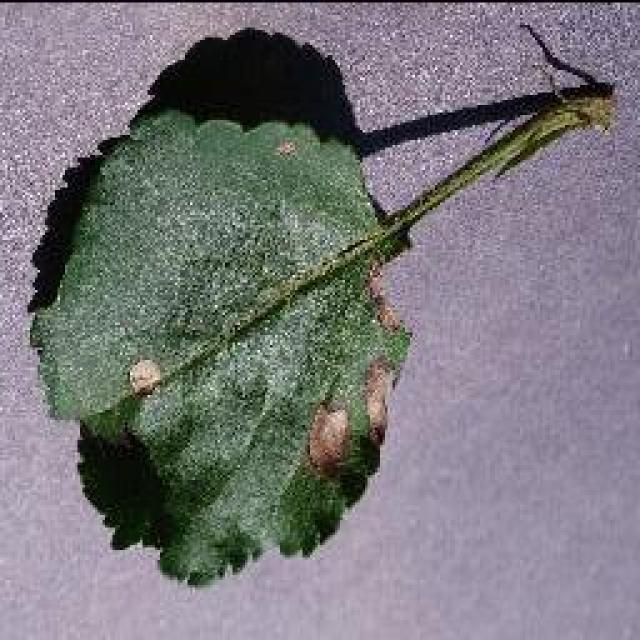Black_rot: (25, 20, 615, 585)
